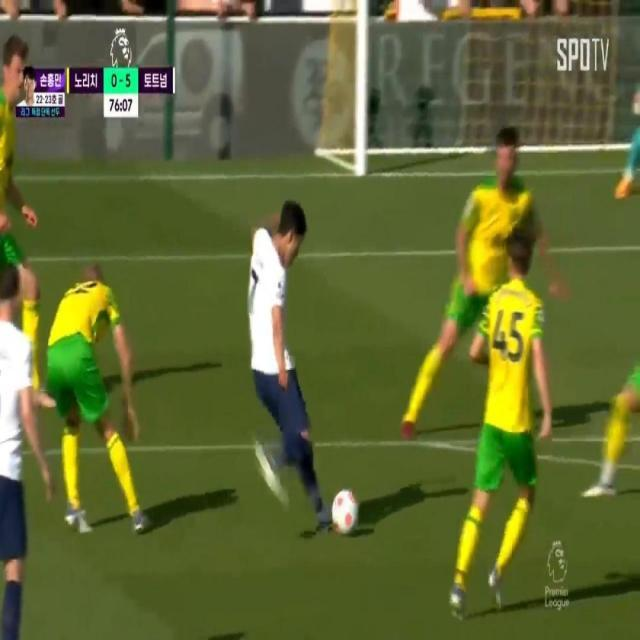ball: (330, 477, 362, 538)
player: (49, 263, 149, 532), (248, 202, 316, 507), (438, 136, 542, 328), (480, 231, 537, 558), (0, 254, 33, 640), (0, 27, 41, 251)
